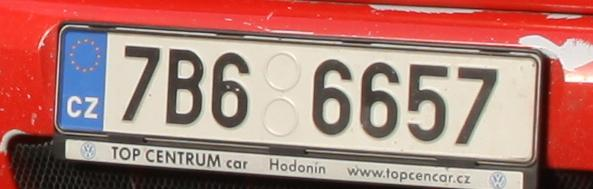5: (409, 65, 447, 142)
6: (312, 59, 352, 135), (361, 62, 398, 138), (212, 52, 248, 127)
7: (459, 66, 498, 146), (123, 45, 158, 123)
B: (166, 50, 201, 124)
